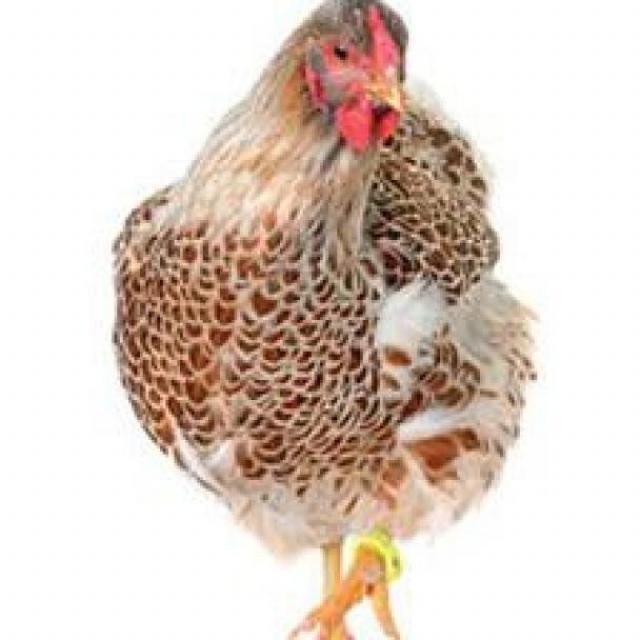Chicken: (98, 0, 584, 640)
